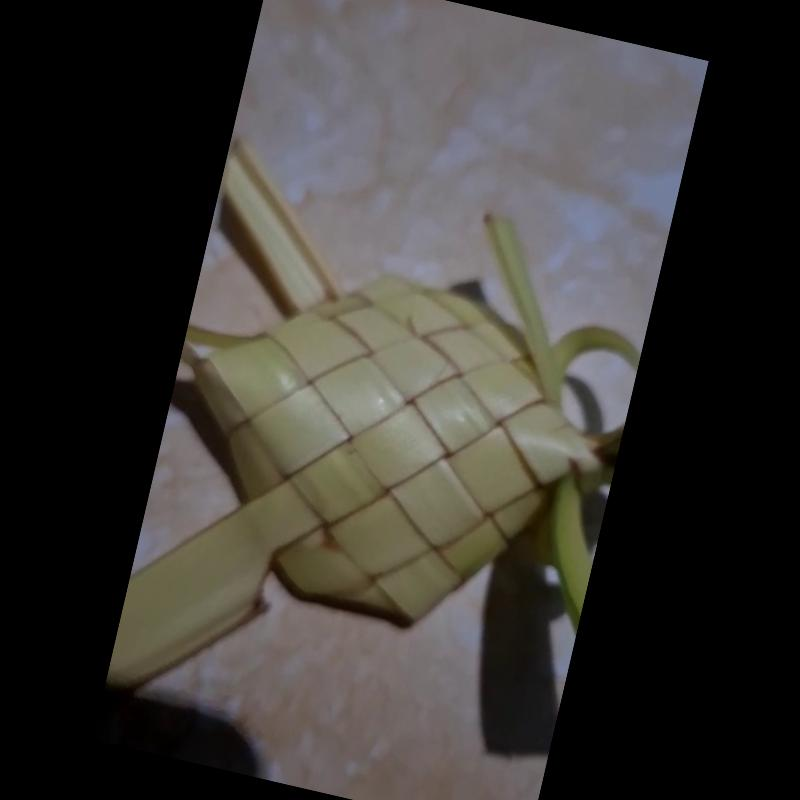Tipat Dampulan: (98, 125, 642, 722)
